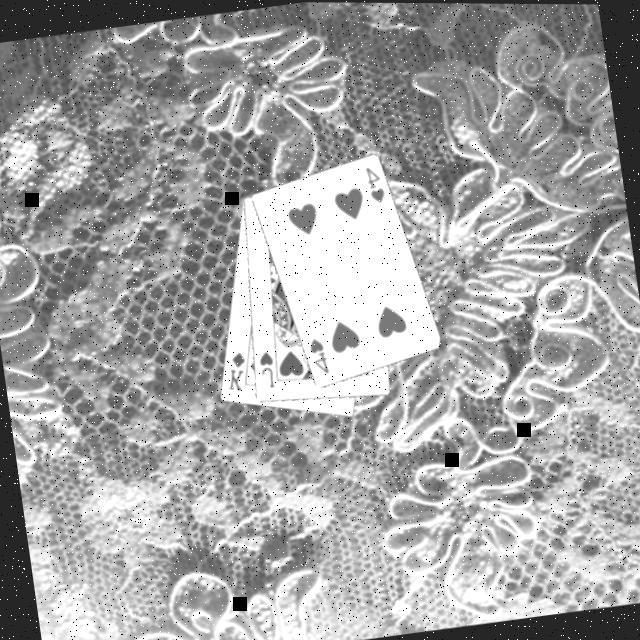4H: (306, 334, 334, 380), (364, 162, 392, 207)
JH: (256, 348, 282, 392)
KD: (222, 348, 254, 396)
